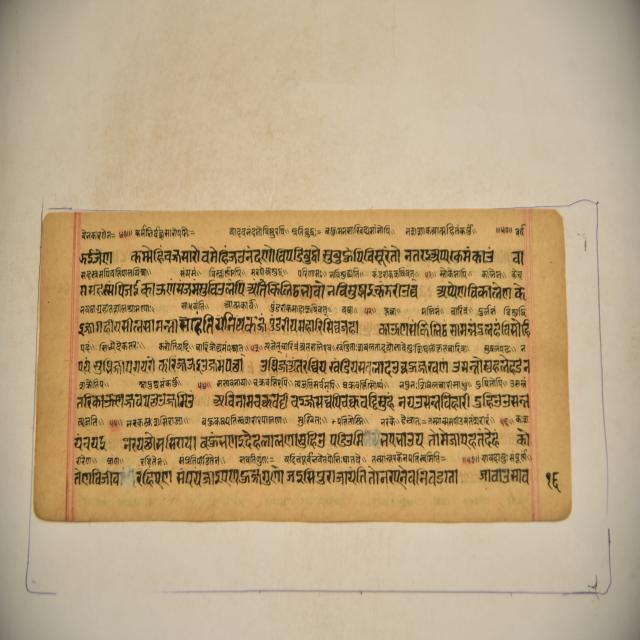text_paragraph: (33, 206, 572, 519)
